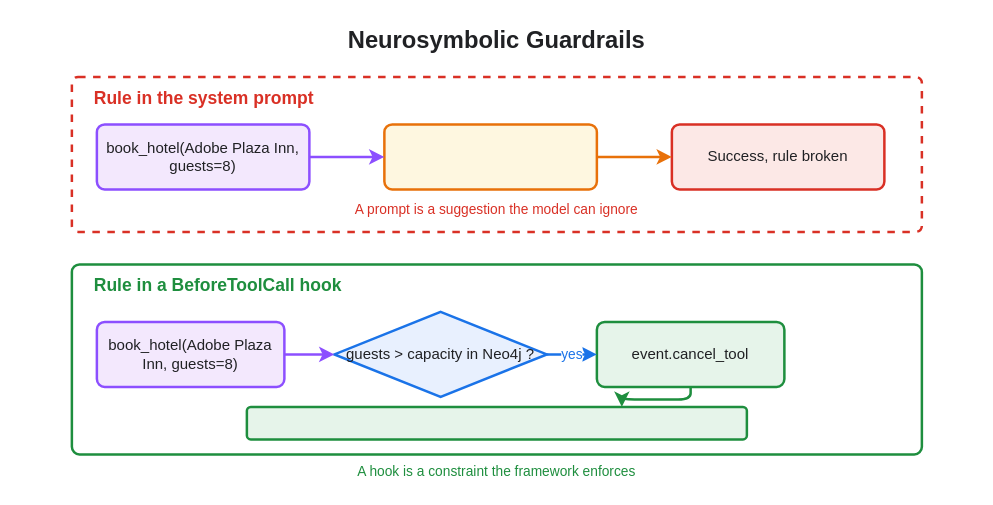
Some shapes in this 993 by 505 pixel diagram are drawn without their labels. The shapes that lost their labels are listed below. From the top down, each one's centre as x and y in pixels, then its label:
point 490,156: Tool runs, nothing checks
point 496,422: Tool never runs. Agent reads "BLOCKED: 8 guests exceed capacity of 6"
